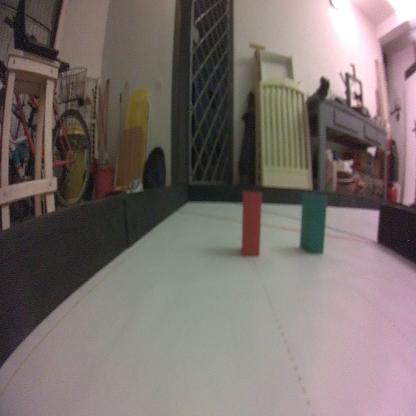green: (299, 186, 327, 258)
red: (240, 187, 264, 259)
